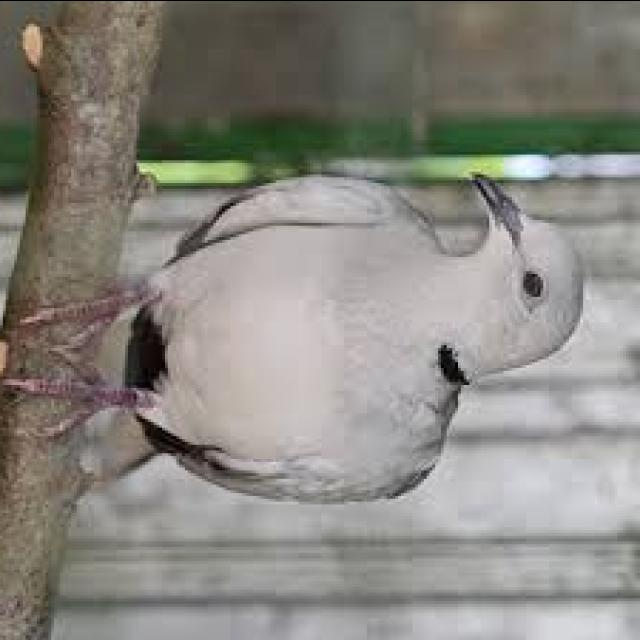pigeon: (58, 164, 594, 511)
